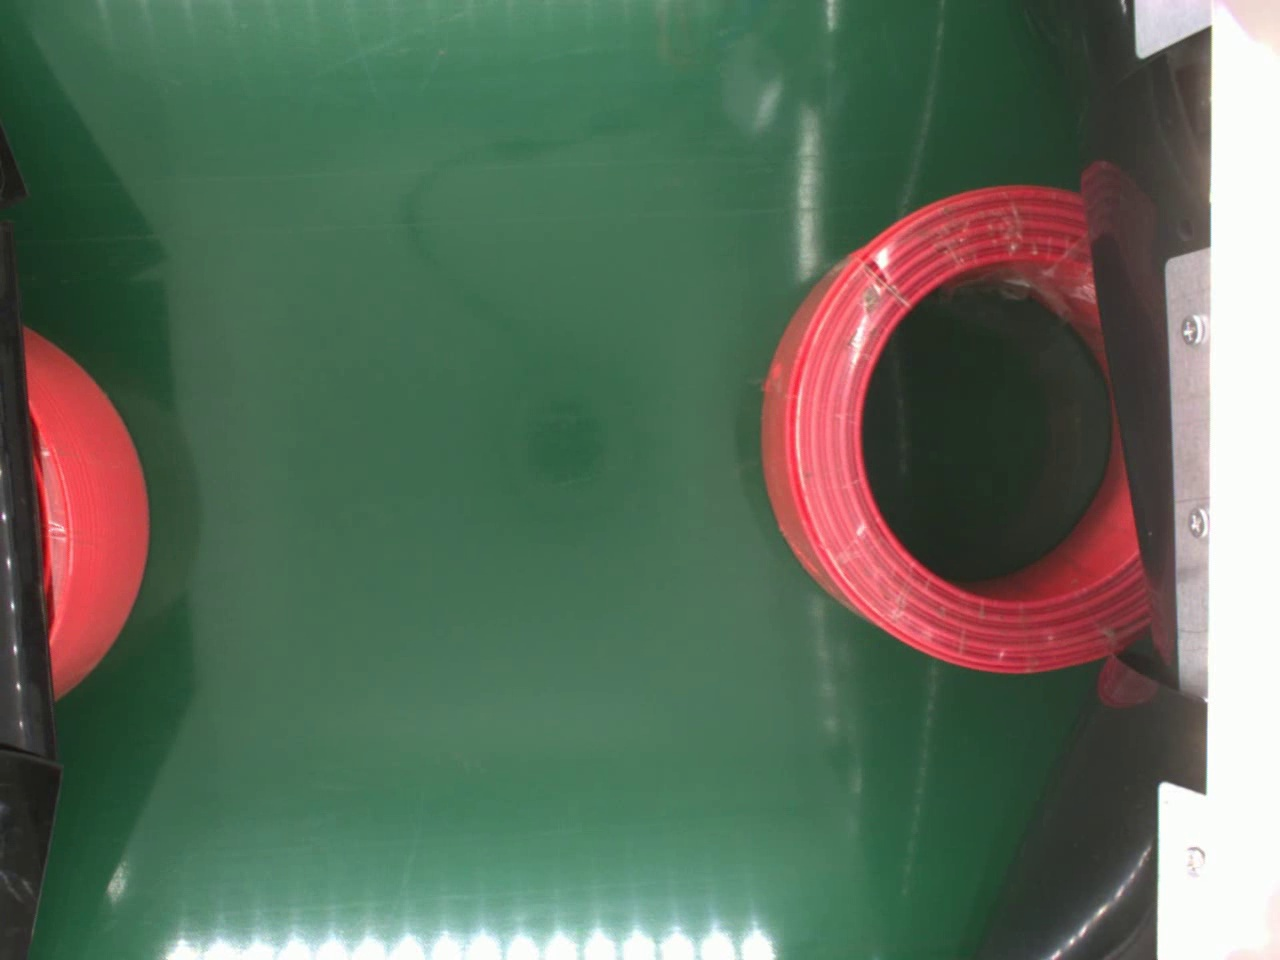red: (757, 179, 1152, 675)
